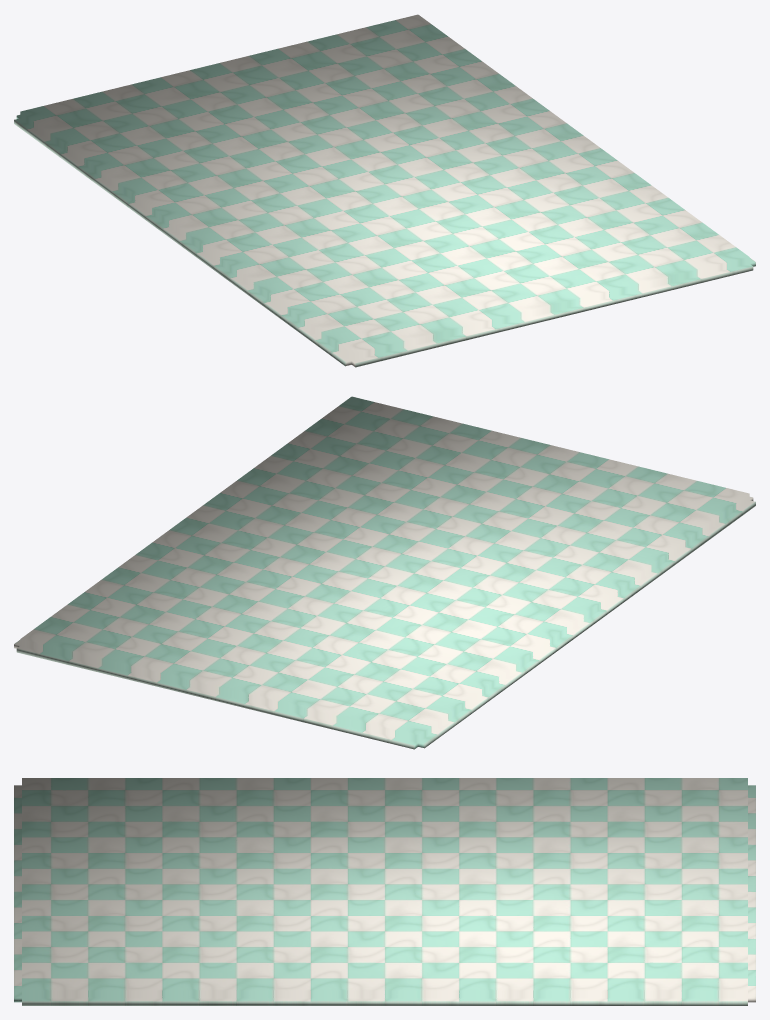
Rendered from w1_01_tabletop.glb.
3 renders of one model, top to bottom at view 1: azimuth 30°, elevation 25°; view 2: azimuth 150°, elevation 25°; view 3: azimuth 270°, elevation 25°, orthographic. The views are drawn at different scales.
Parts seen in each view (by area): view 1: W1_01_Tabletop; view 2: W1_01_Tabletop; view 3: W1_01_Tabletop.
Part boxes in pixels (x1,y1,x2,y2): W1_01_Tabletop: [14, 14, 755, 367]; W1_01_Tabletop: [14, 396, 755, 749]; W1_01_Tabletop: [14, 778, 755, 1005].
Size of the model in its own units: 14 by 0.35 by 20.
1 material, 1 textured.
